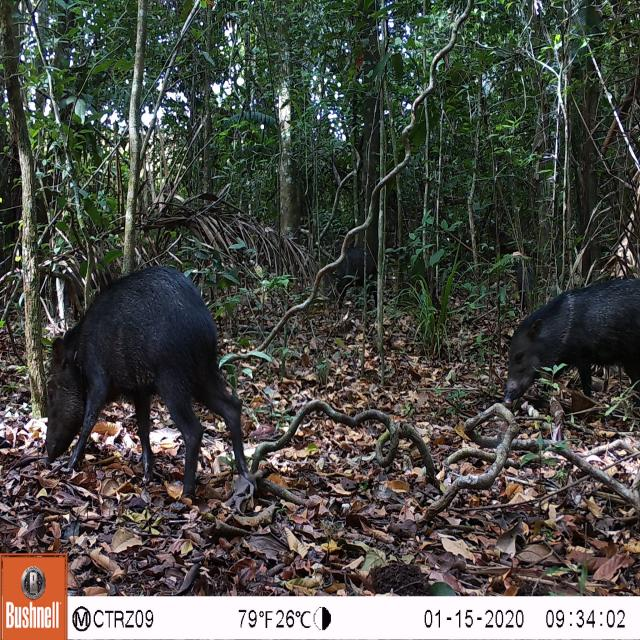White-lipped Peccary: (16, 252, 262, 503), (498, 271, 640, 405)
